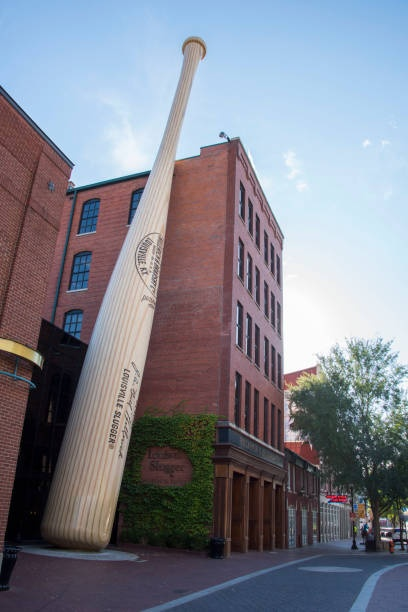bita: (34, 36, 205, 550)
